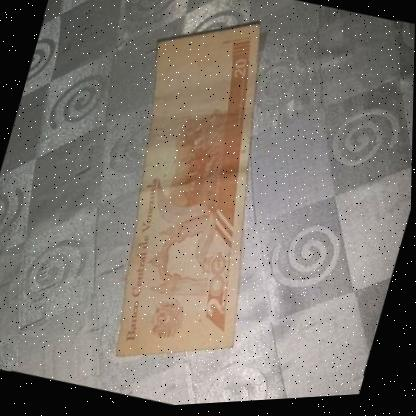twenty-back-vef: (71, 0, 323, 388)
